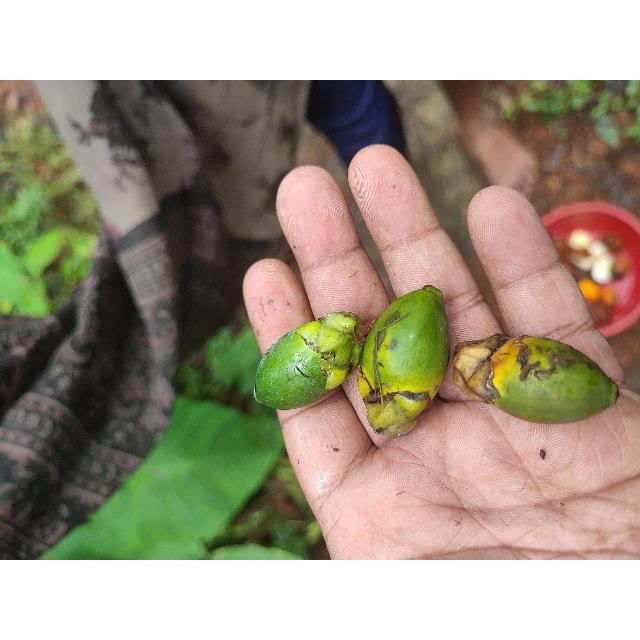damaged: (357, 287, 451, 443), (461, 337, 619, 426), (254, 314, 362, 412)
